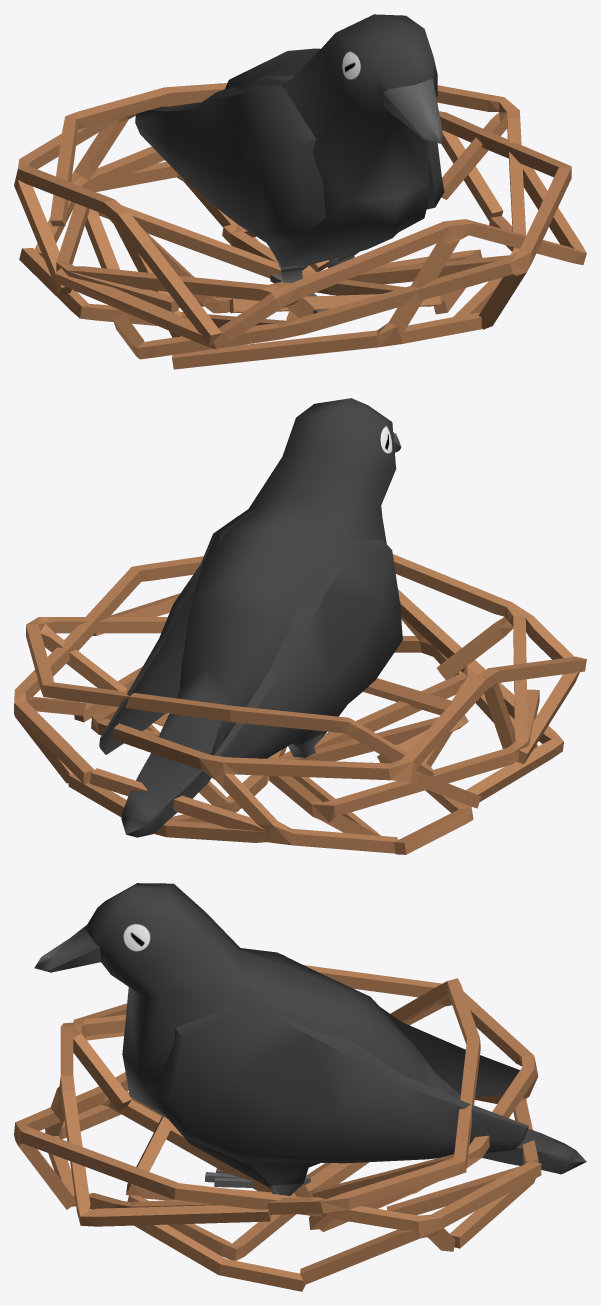
Rendered from EnemyHouse.obj.
3 views of the same model, one above another, from view 1: azimuth 30°, elevation 25°; view 2: azimuth 150°, elevation 25°; view 3: azimuth 270°, elevation 25° (orthographic).
Visible parts, largest first — view 1: Cube, P_Body, P_Wing_R, P_Wing_L; view 2: Cube, P_Body, P_Wing_R, P_Wing_L; view 3: Cube, P_Wing_L, P_Body, P_Wing_R.
Part boxes in pixels (x1=…): Cube: x1=14, y1=83, x2=586, y2=369; P_Body: x1=225, y1=14, x2=442, y2=313; P_Wing_R: x1=135, y1=75, x2=325, y2=246; P_Wing_L: x1=426, y1=141, x2=444, y2=209; Cube: x1=14, y1=554, x2=586, y2=854; P_Body: x1=121, y1=398, x2=401, y2=837; P_Wing_R: x1=214, y1=529, x2=402, y2=774; P_Wing_L: x1=99, y1=510, x2=255, y2=754; Cube: x1=14, y1=965, x2=541, y2=1291; P_Wing_L: x1=155, y1=987, x2=528, y2=1163; P_Body: x1=34, y1=883, x2=586, y2=1195; P_Wing_R: x1=245, y1=949, x2=519, y2=1096.
Bounding box in the file's own units: 1 × 0.6627 × 1.04.
Materials: 1 (1 with a texture image).
